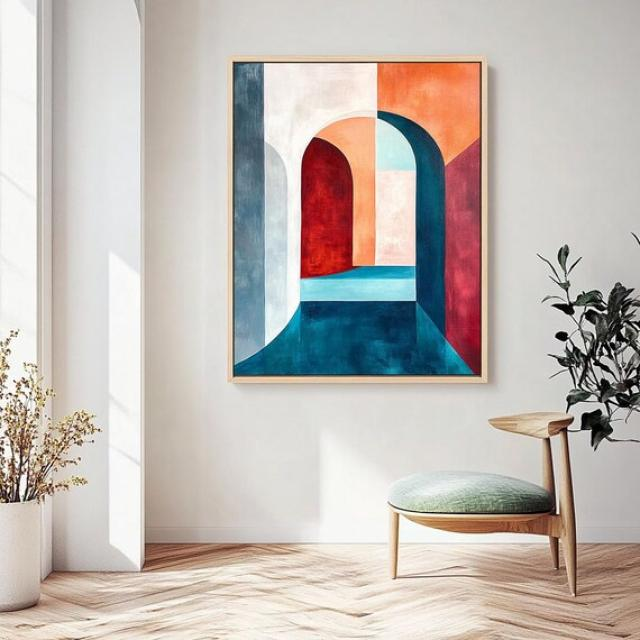painting: (226, 53, 487, 383)
